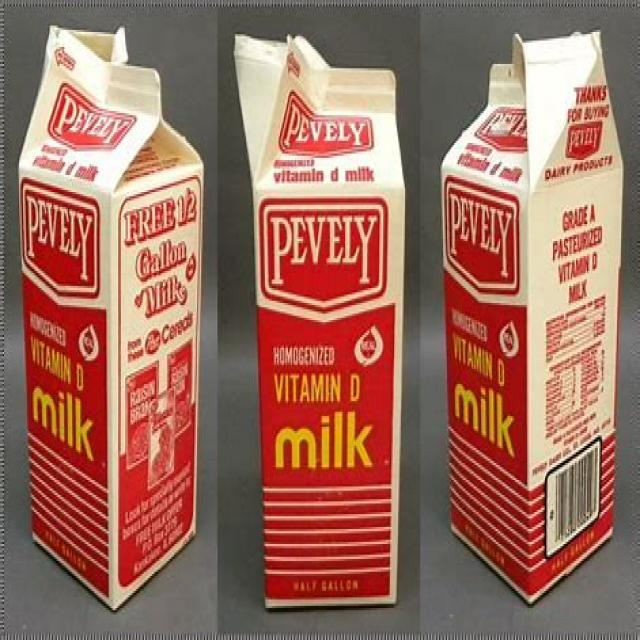non_white_jug: (436, 28, 618, 608), (19, 19, 196, 614), (230, 26, 406, 612)
